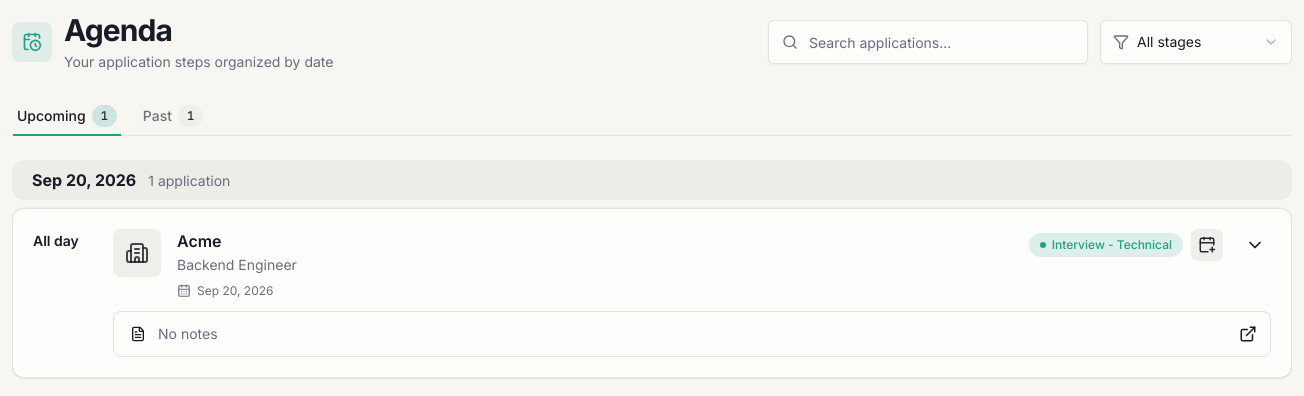
it: AgendaPage › the stage filter keeps only the chosen interview type, on both tab counts
Click the dropdown named "Filter by stage" at (1196, 42), box [1100,20,1292,64]
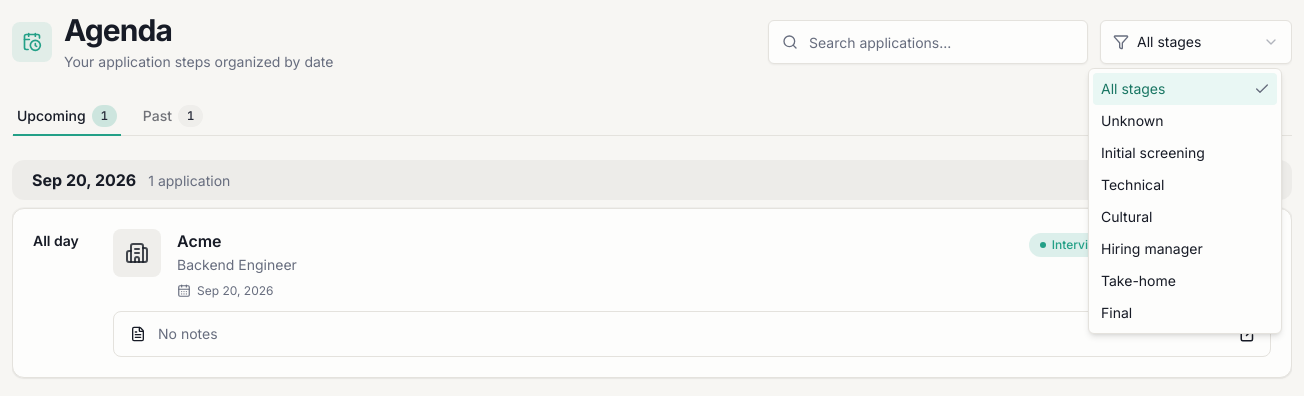
Click the option "Hiring manager" at (1152, 248), box [1101,240,1203,257]
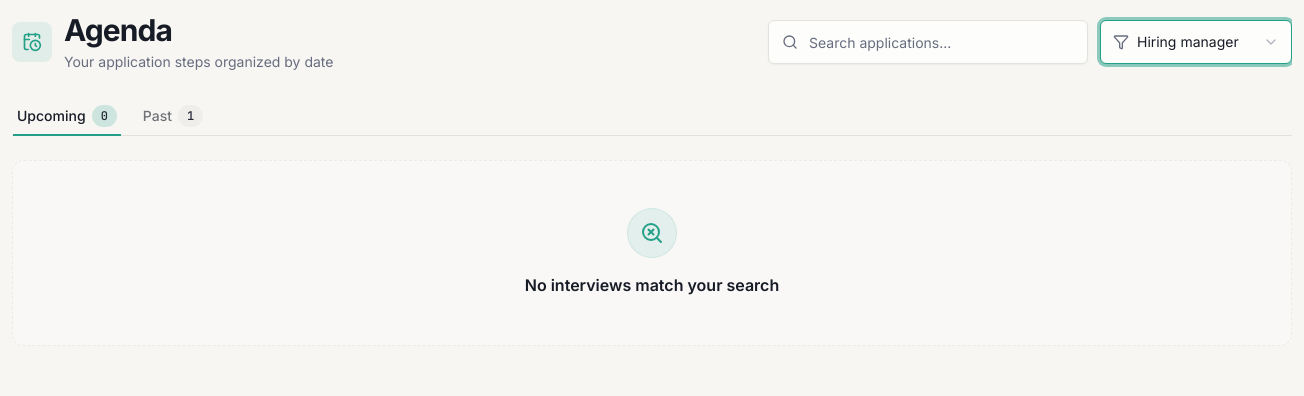
Expected: the tab with aria-label "past (1)" is shown, [138,96,208,135]
Now the tab with aria-label "upcoming (0)" is shown, box [12,96,122,135]
Now the text "0" is shown, box [92,104,117,126]
